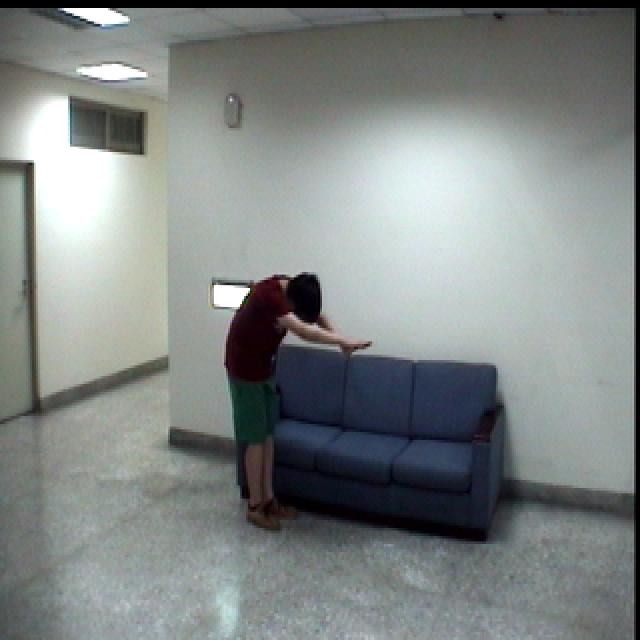bend: (218, 267, 375, 538)
